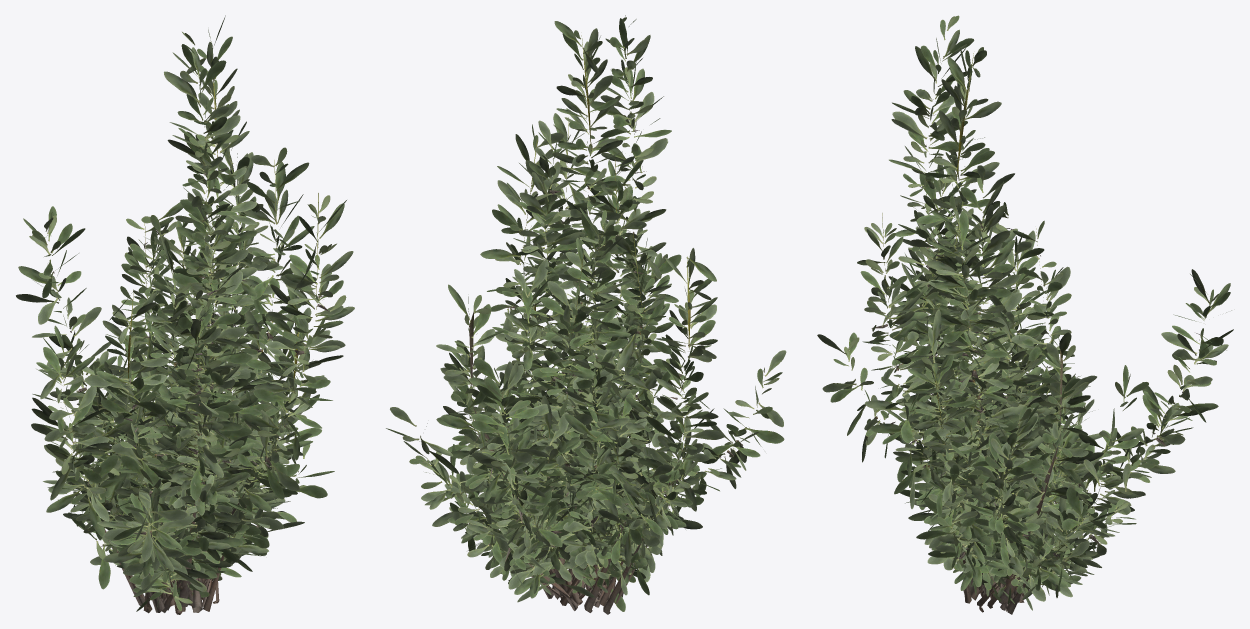
The model's file is othonna.glb.
3 renders of one model, left to right at view 1: azimuth 30°, elevation 25°; view 2: azimuth 150°, elevation 25°; view 3: azimuth 270°, elevation 25°, orthographic. The views are drawn at different scales.
Parts seen in each view (by area): view 1: othonna_0, othonna_1, othonna_2, othonna_4, othonna_3; view 2: othonna_0, othonna_1, othonna_2, othonna_3, othonna_4; view 3: othonna_0, othonna_1, othonna_2, othonna_4, othonna_3.
Part boxes in pixels (bbox=[...]): othonna_0: bbox=[16, 15, 354, 613]; othonna_1: bbox=[44, 121, 330, 613]; othonna_2: bbox=[97, 220, 334, 611]; othonna_4: bbox=[68, 399, 270, 614]; othonna_3: bbox=[116, 334, 244, 612]; othonna_0: bbox=[386, 15, 786, 614]; othonna_1: bbox=[440, 120, 693, 610]; othonna_2: bbox=[432, 210, 706, 606]; othonna_3: bbox=[504, 315, 653, 601]; othonna_4: bbox=[449, 405, 664, 611]; othonna_0: bbox=[817, 15, 1233, 614]; othonna_1: bbox=[896, 164, 1145, 612]; othonna_2: bbox=[895, 214, 1097, 610]; othonna_4: bbox=[907, 419, 1097, 605]; othonna_3: bbox=[900, 329, 1096, 610].
Bounding box in the file's own units: 0.7203 × 1.44 × 0.9466.
1 material, 1 textured.
